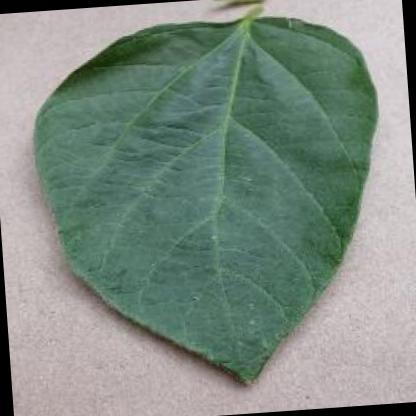soy: (12, 0, 410, 404)
